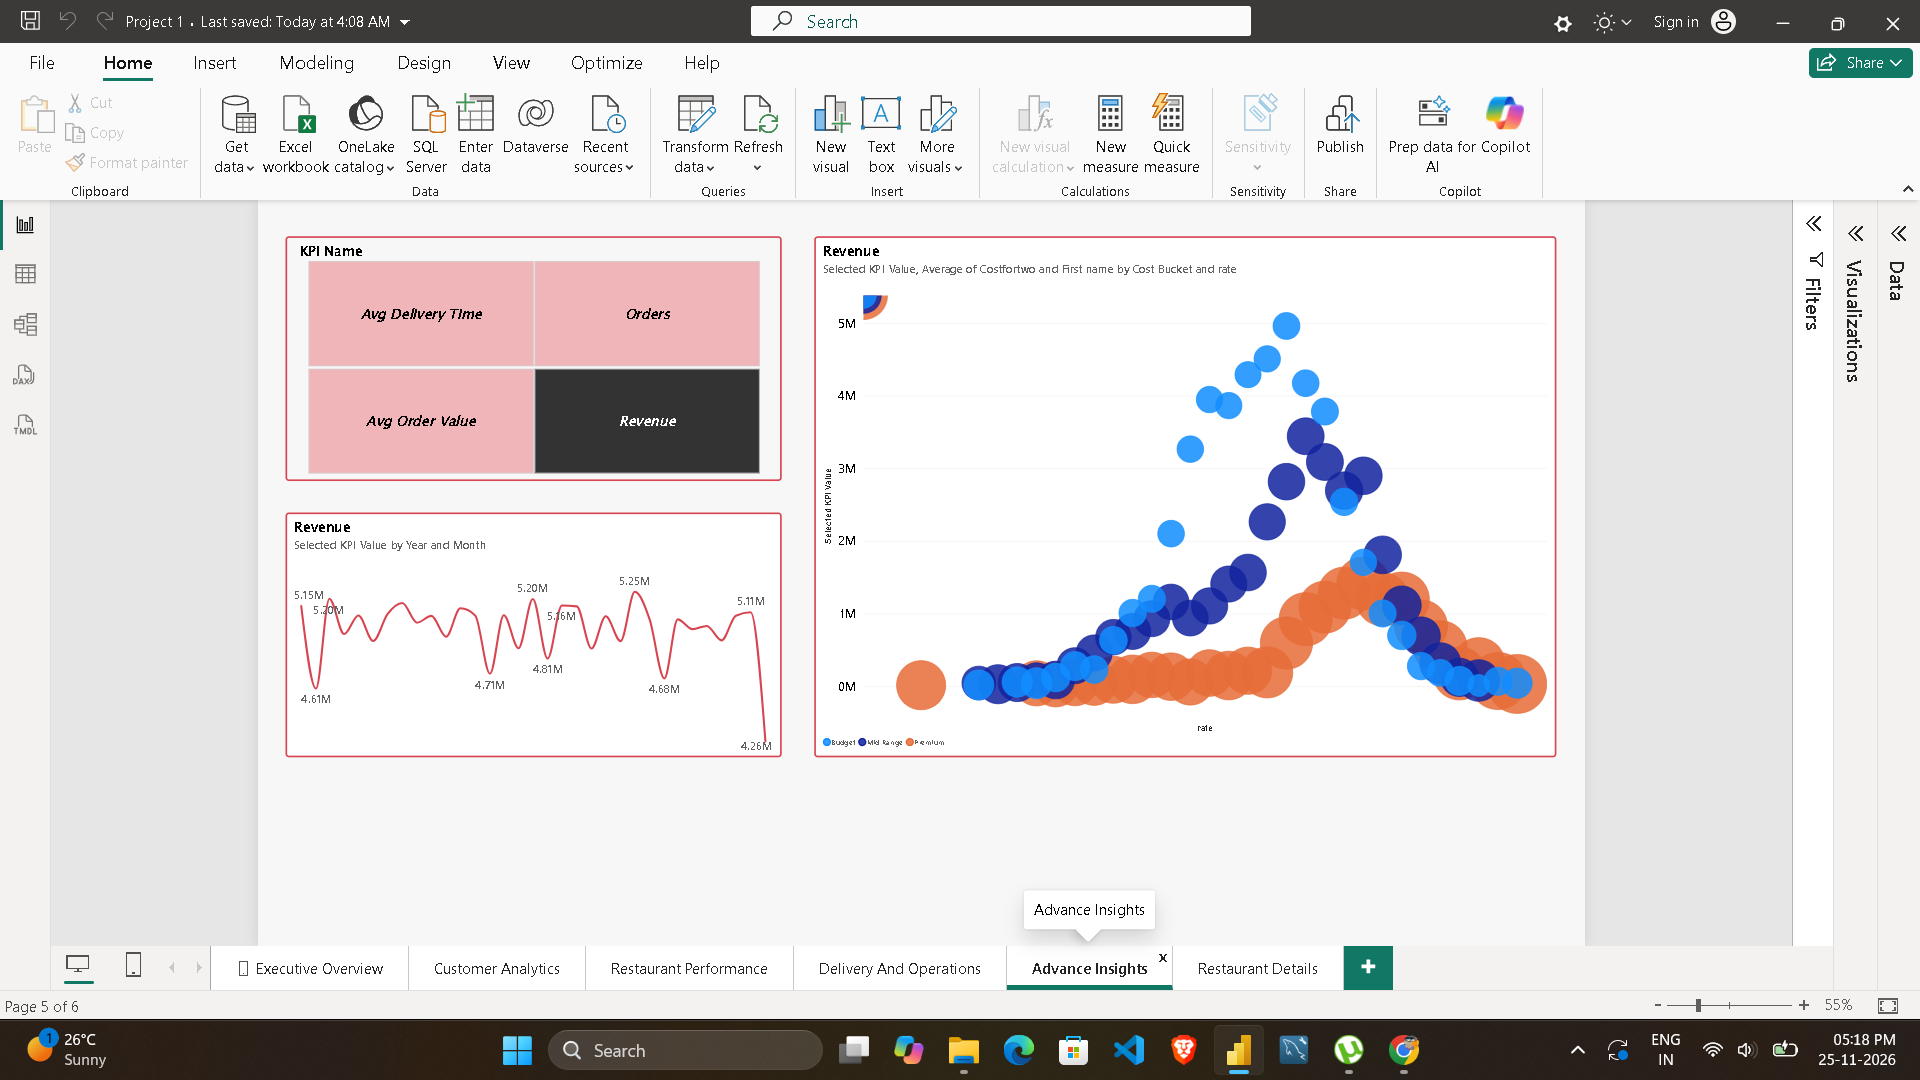

The dashboard page shown, as its layout file describes it:
{"tool":"powerbi","page":{"name":"Advance Insights","canvas":[1920,1080],"ordinal":4},"visuals":[{"type":"slicer","fields":{"Values":["KPI.KPI Name"]},"box":[40,52,718,354],"z":0},{"type":"lineChart","fields":{"Category":["DateTable.Date.Variation.Date Hierarchy.Year","DateTable.Date.Variation.Date Hierarchy.Month"],"Y":["Orders.Selected KPI Value"]},"box":[40,452,718,354],"z":1000},{"type":"scatterChart","title":"Revenue","fields":{"Series":["Restaurants.Cost Bucket"],"Size":["Avg(Restaurants.Costfortwo)"],"X":["Restaurants.rate"],"Y":["Orders.Selected KPI Value"]},"box":[806,52,1074,754],"z":2000}]}

Visuals, with their boxes on the page's 1920x1080 design canvas (x1, y1, x2, y2). These are canvas units, not pixel positions in the 1920x1080 screenshot, which may show the page scaled, cropped or inside an application window:
slicer - KPI.KPI Name: BBox(40, 52, 758, 406)
lineChart - DateTable.Date.Variation.Date Hierarchy.Year x DateTable.Date.Variation.Date Hierarchy.Month: BBox(40, 452, 758, 806)
"Revenue" scatterChart: BBox(806, 52, 1880, 806)
